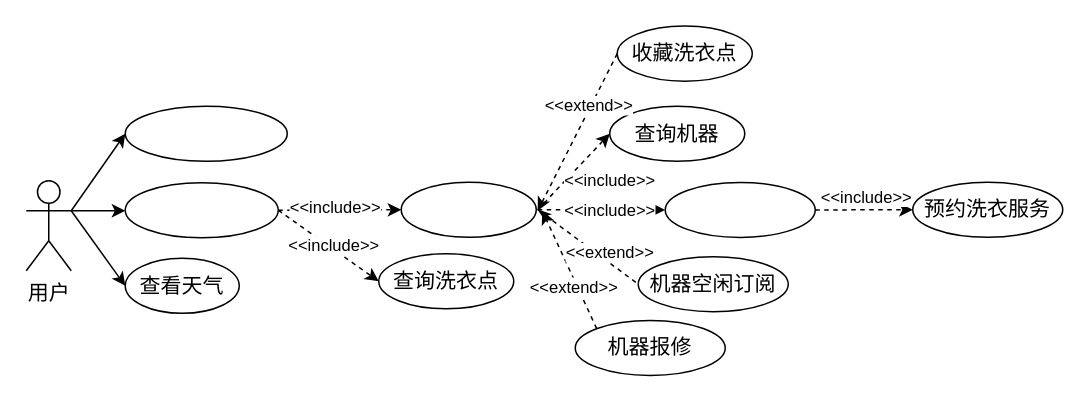
The diagram is 1089 pixels wide and 402 high, and some of its shapes have lost their labels. The centre of each missing label's shape, as x and y in pixels:
查看系统公告: the point at 205,133
选择服务类型: the point at 201,209
选择洗衣点: the point at 468,209
选择空闲机器: the point at 739,209
